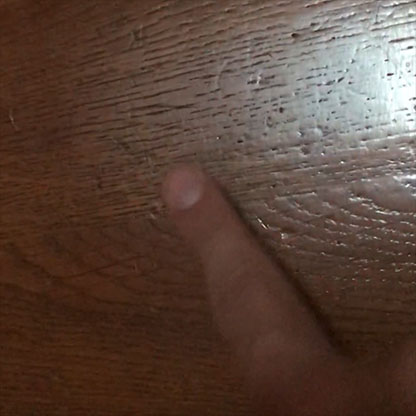fingertip: (142, 155, 225, 221)
